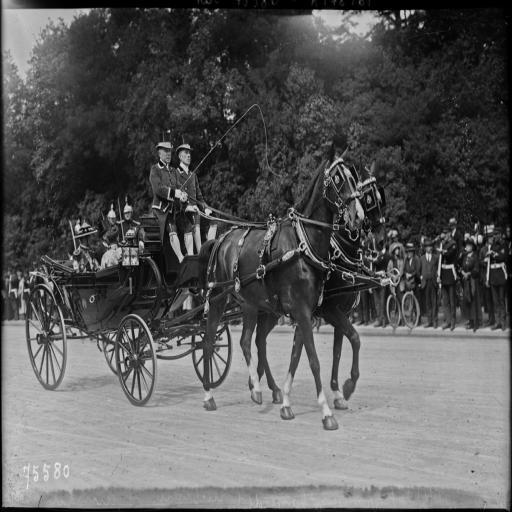horse: (202, 141, 368, 431), (248, 152, 388, 408)
